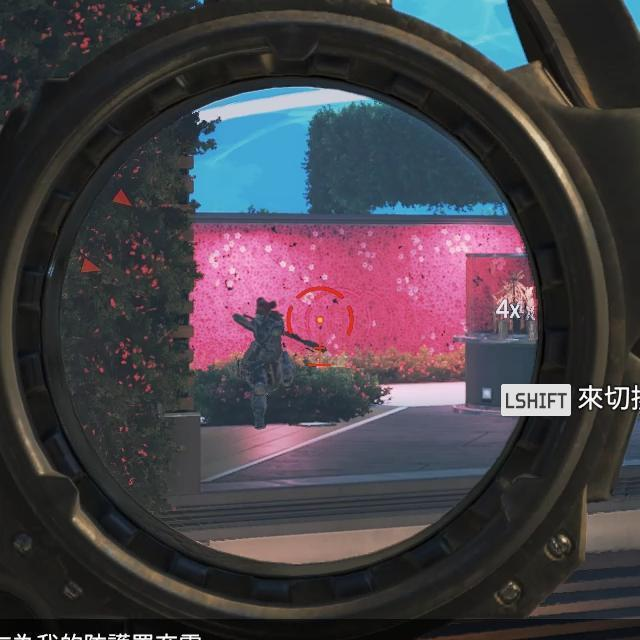avatar: (230, 298, 292, 431)
